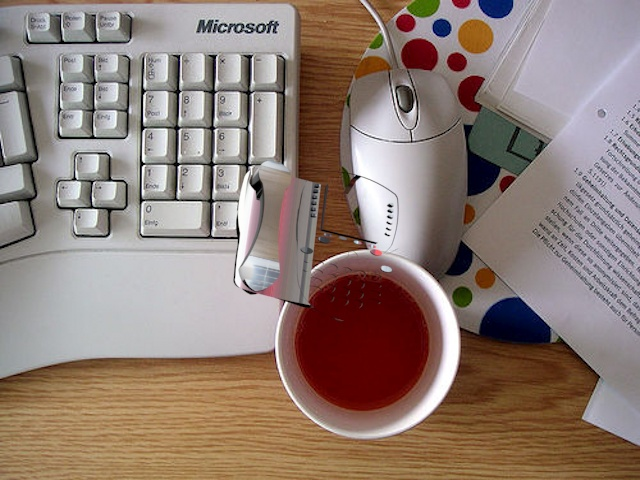phone: (233, 160, 400, 328)
